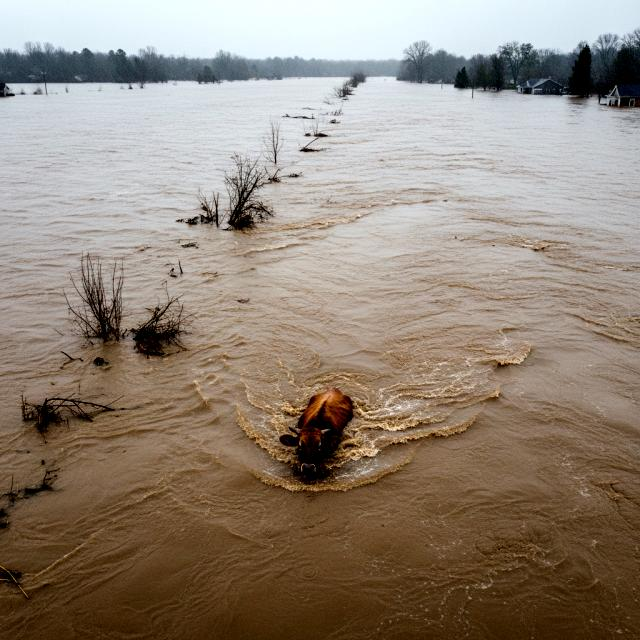cow: (263, 378, 376, 488)
